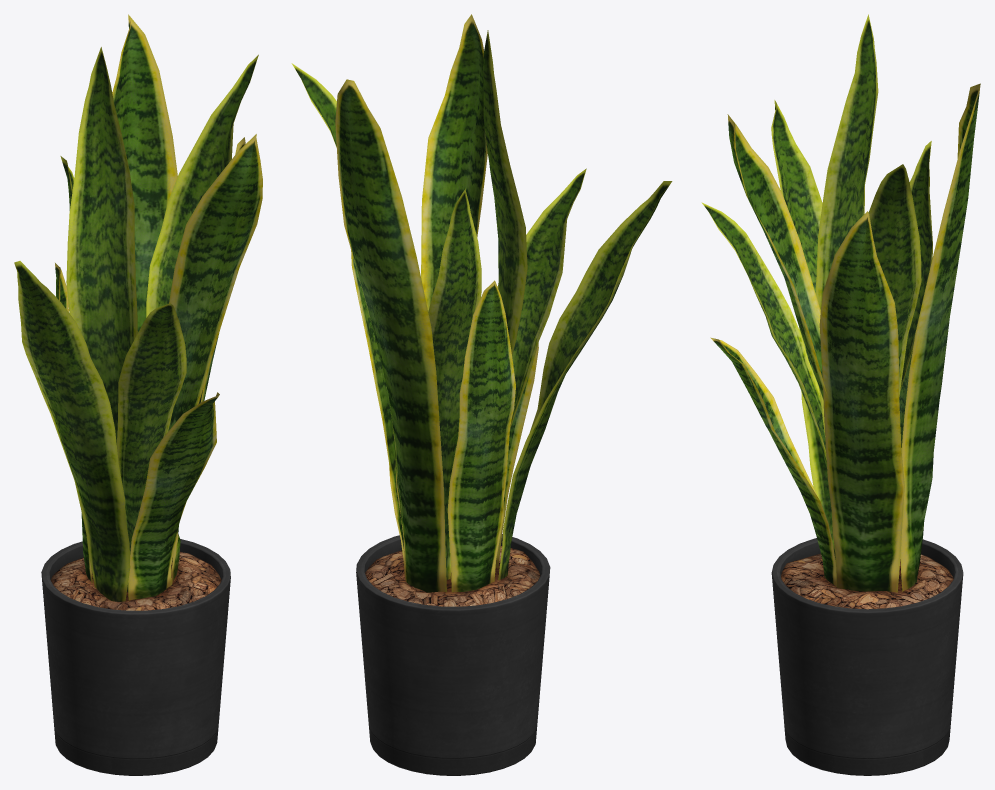
The model's file is BP_RoomPlantsSet01_SansevieriaB.fbx.
3 renders of one model, left to right at view 1: azimuth 30°, elevation 25°; view 2: azimuth 150°, elevation 25°; view 3: azimuth 270°, elevation 25°, orthographic. The views are drawn at different scales.
Visible parts, largest first — view 1: Ha, Hachi, Ha_ura, Kokofiber; view 2: Ha, Hachi, Ha_ura, Kokofiber; view 3: Ha, Hachi, Ha_ura, Kokofiber.
Part boxes in pixels (box(x1,y1,x2,y2)): Ha: box(14, 14, 262, 601); Hachi: box(41, 539, 230, 775); Ha_ura: box(15, 16, 262, 601); Kokofiber: box(50, 551, 221, 610); Ha: box(291, 14, 672, 592); Hachi: box(356, 534, 550, 775); Ha_ura: box(293, 16, 668, 591); Kokofiber: box(365, 546, 540, 606); Ha: box(702, 14, 980, 592); Hachi: box(771, 538, 963, 775); Ha_ura: box(703, 16, 979, 591); Kokofiber: box(781, 553, 953, 609).
Size of the model in its own units: 38.33 by 83.63 by 29.76.
